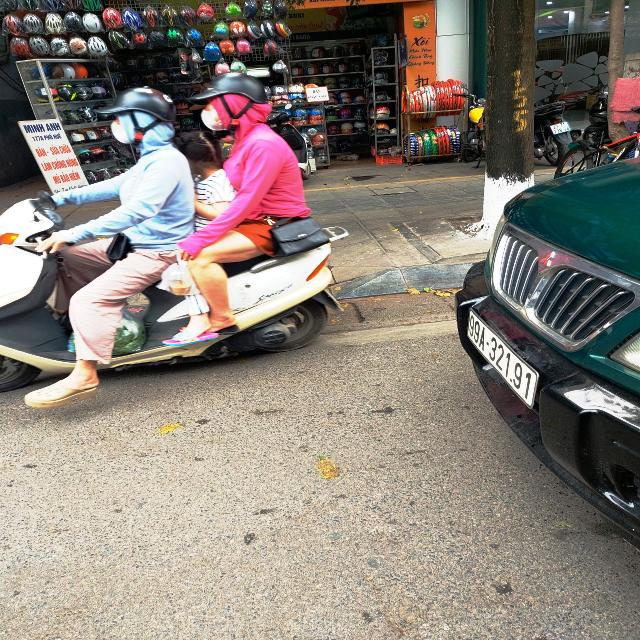license_plate: (469, 309, 538, 408)
